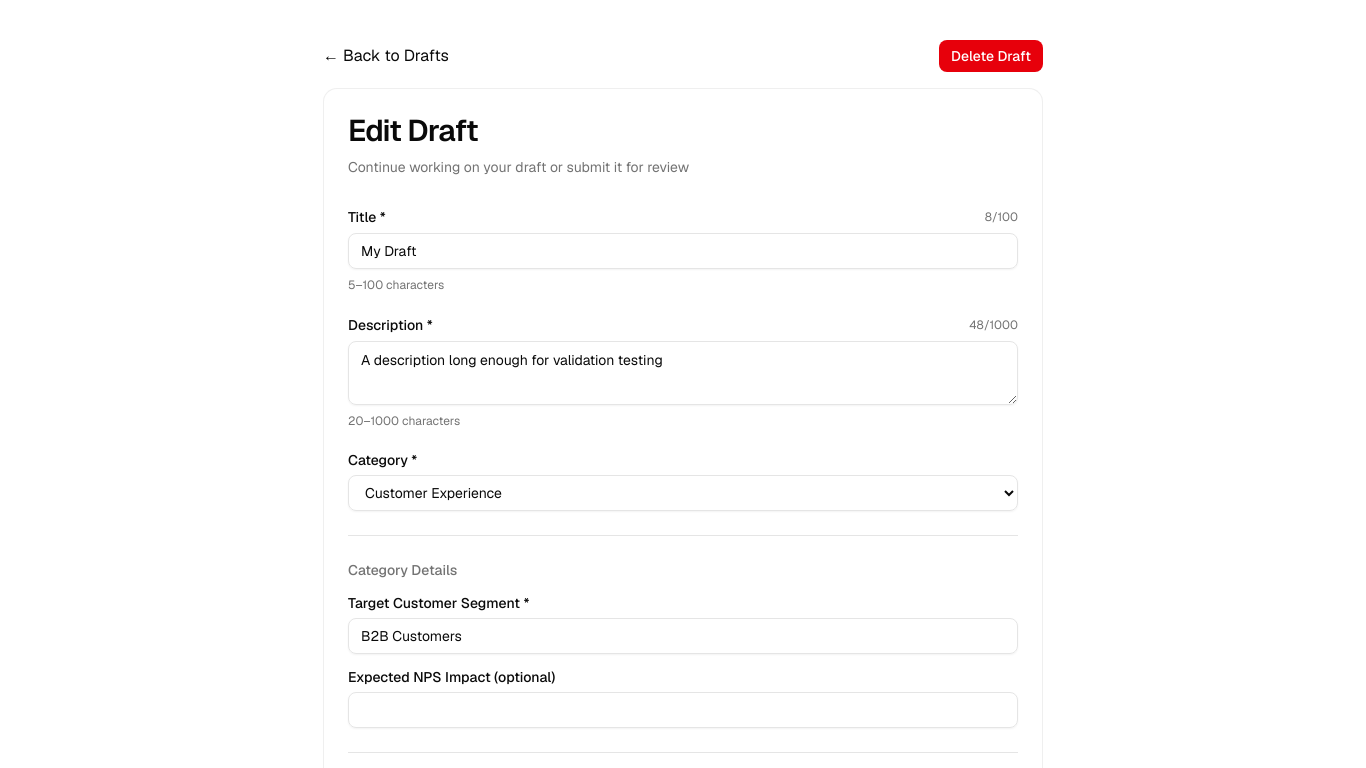
Test case: DraftEditPage › shows delete confirmation dialog
The image size is (1366, 768).
Check: the text "Edit Draft" is shown, box left=348, top=111, right=478, bottom=150
Click the button "Delete Draft" at (991, 56), box left=939, top=40, right=1043, bottom=72
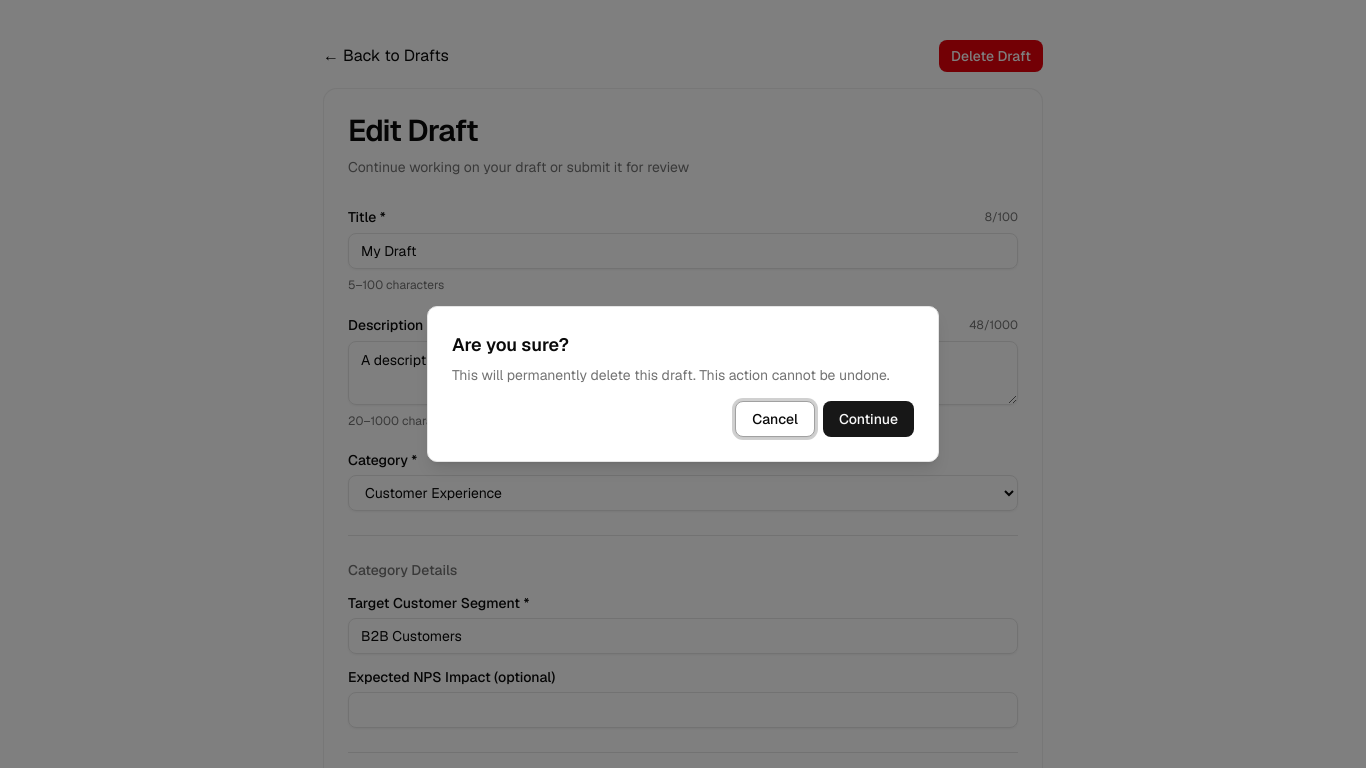
Check: the heading "Are you sure?" is shown, box left=452, top=331, right=569, bottom=359
